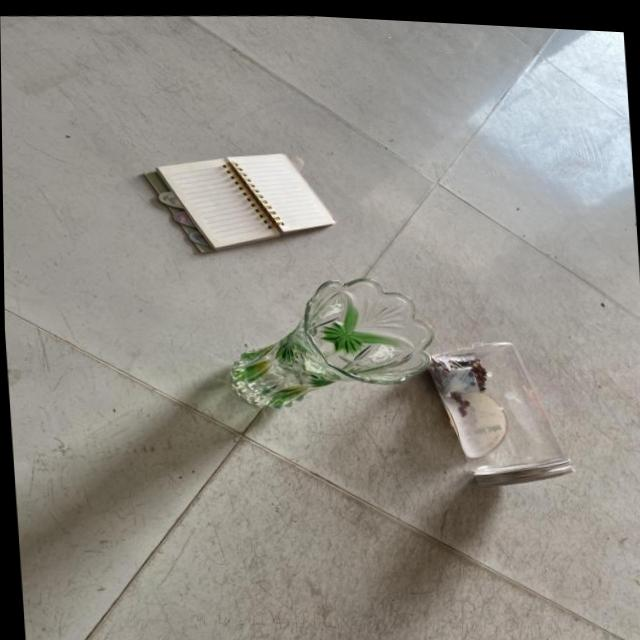foam box: (159, 266, 433, 429)
food: (135, 132, 335, 273)
leaf: (419, 318, 576, 492)
